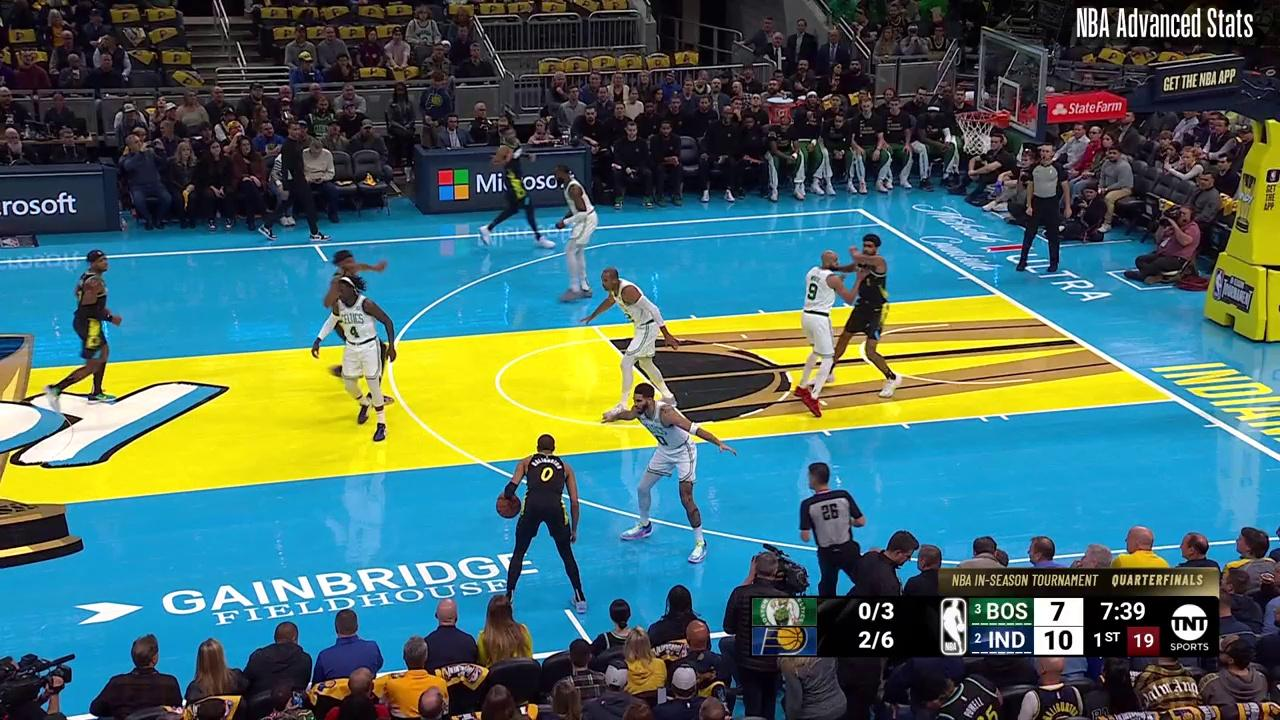3_sx: (877, 220, 886, 227)
b_sx: (854, 205, 863, 214)
free_asx: (590, 323, 599, 331)
free_bdx: (1170, 394, 1182, 404)
free_bsx: (994, 289, 1004, 298)
mid_dx: (563, 604, 572, 613)
mid_sx: (322, 259, 329, 264)
referee: (794, 460, 877, 600), (1015, 141, 1073, 272)
team: (611, 386, 736, 567), (310, 279, 400, 443), (584, 267, 683, 416), (792, 250, 864, 417), (550, 158, 600, 307)
team1: (504, 432, 590, 619), (828, 229, 906, 401), (43, 249, 124, 409), (325, 249, 393, 410), (478, 128, 555, 250)
timer: (1096, 592, 1155, 629)
